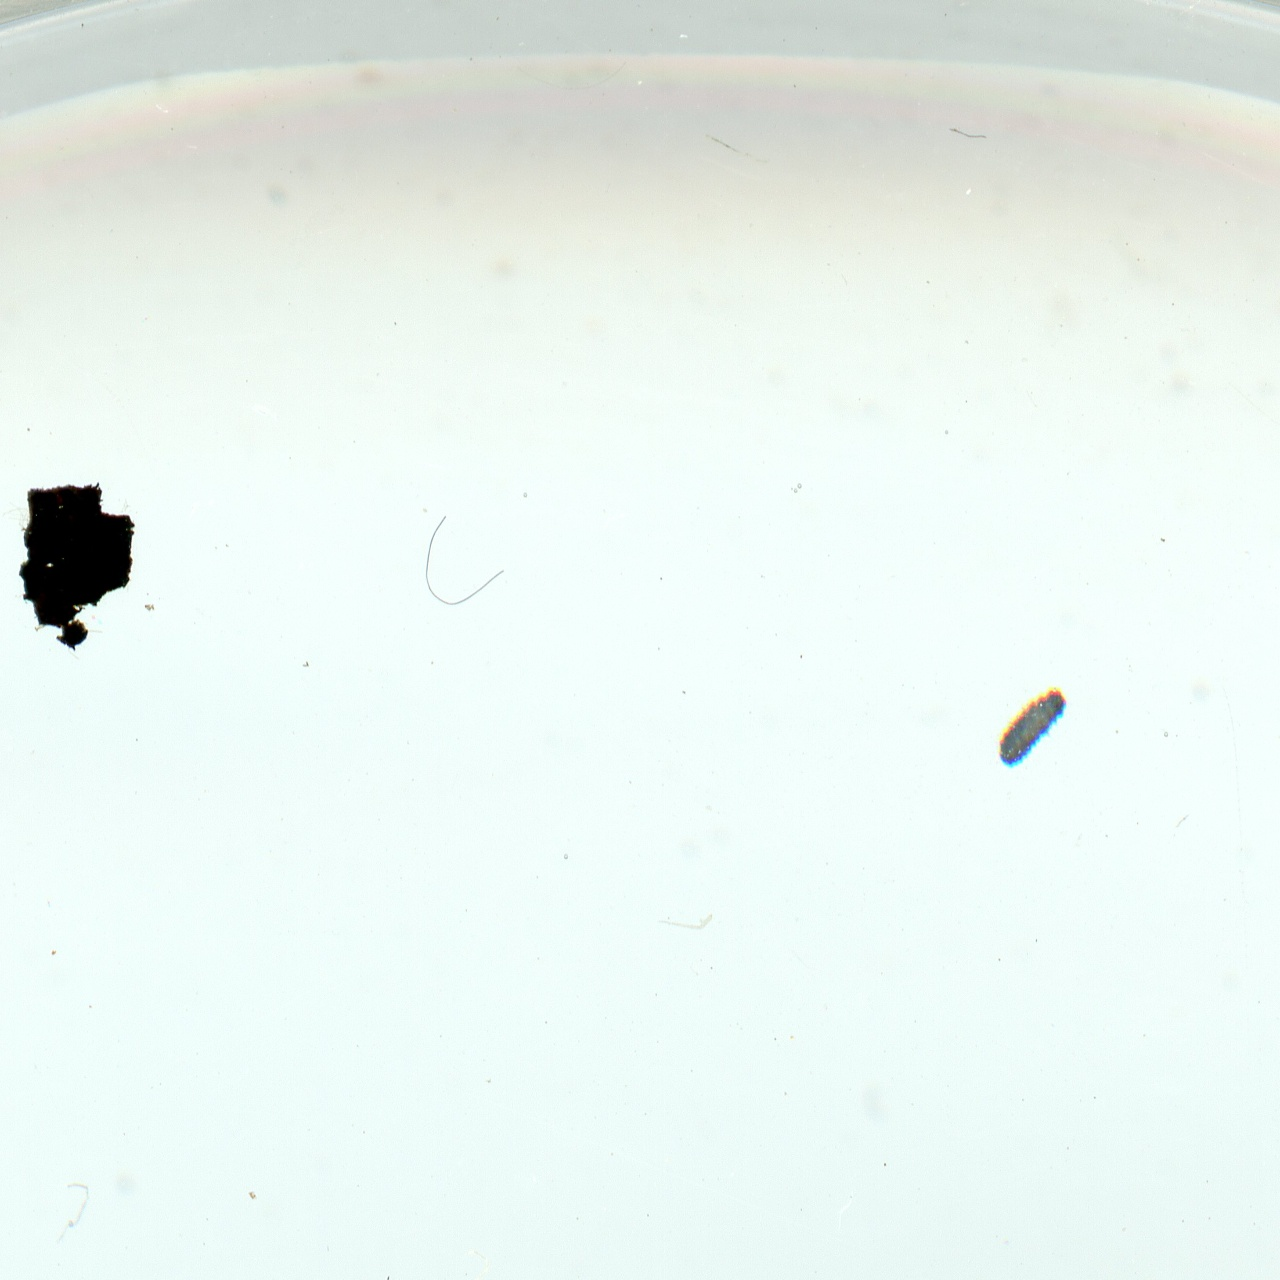arthropod: (978, 668, 1081, 784)
